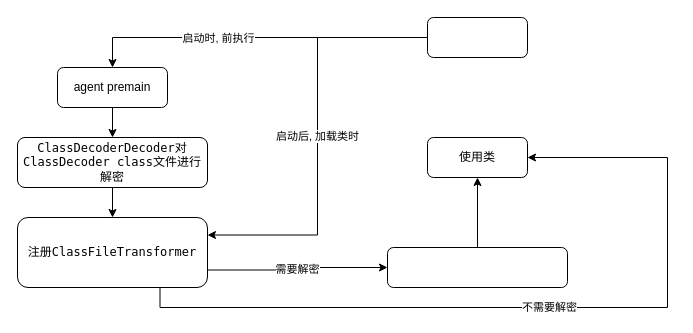
This 693x333 diagram has some shape labels left out. The centre of each missing label's shape, as x and y in pixels:
"Application" goes at point (477, 37).
"使用ClassDecoder对加载的class文件进行解密" goes at point (477, 267).
